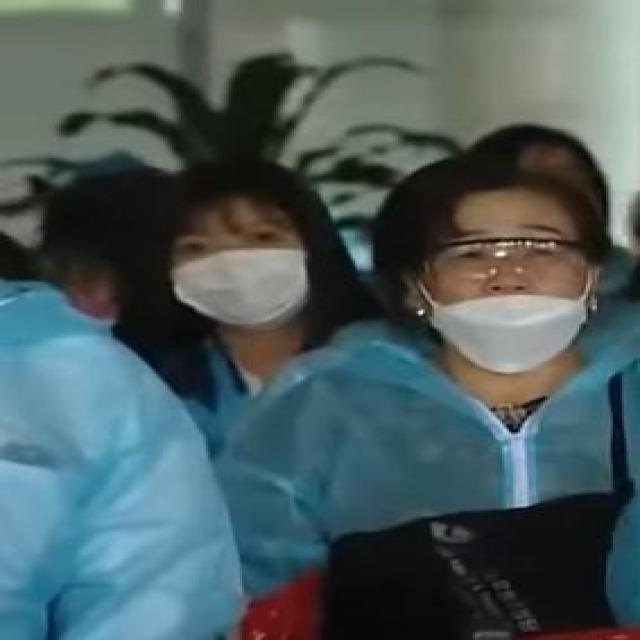hairnet: (434, 219, 581, 374)
